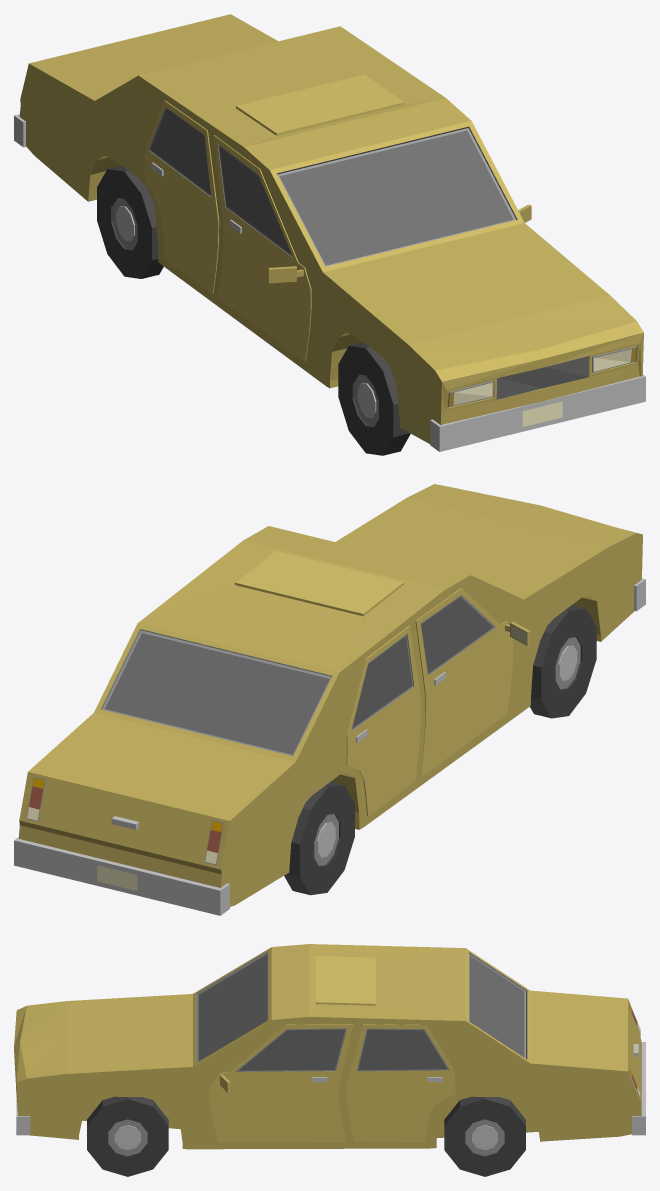
Rendered from old car_2.fbx.
3 renders of one model, top to bottom at view 1: azimuth 30°, elevation 25°; view 2: azimuth 150°, elevation 25°; view 3: azimuth 270°, elevation 25°, orthographic. The views are drawn at different scales.
Visible parts, largest first — view 1: ghv, Cylinder_2_5, Cylinder_2_7; view 2: ghv, Cylinder_2_7, Cylinder_2_5; view 3: ghv, Cylinder_2_6, Cylinder_2_4.
Part boxes in pixels (x1,y1,x2,y2): ghv: [14, 14, 645, 451]; Cylinder_2_5: [338, 342, 410, 455]; Cylinder_2_7: [97, 165, 163, 278]; ghv: [14, 484, 645, 915]; Cylinder_2_7: [284, 782, 354, 895]; Cylinder_2_5: [530, 605, 596, 718]; ghv: [14, 944, 645, 1149]; Cylinder_2_6: [444, 1096, 525, 1176]; Cylinder_2_4: [87, 1096, 168, 1176].
Size of the model in its own units: 169 by 134 by 476.
